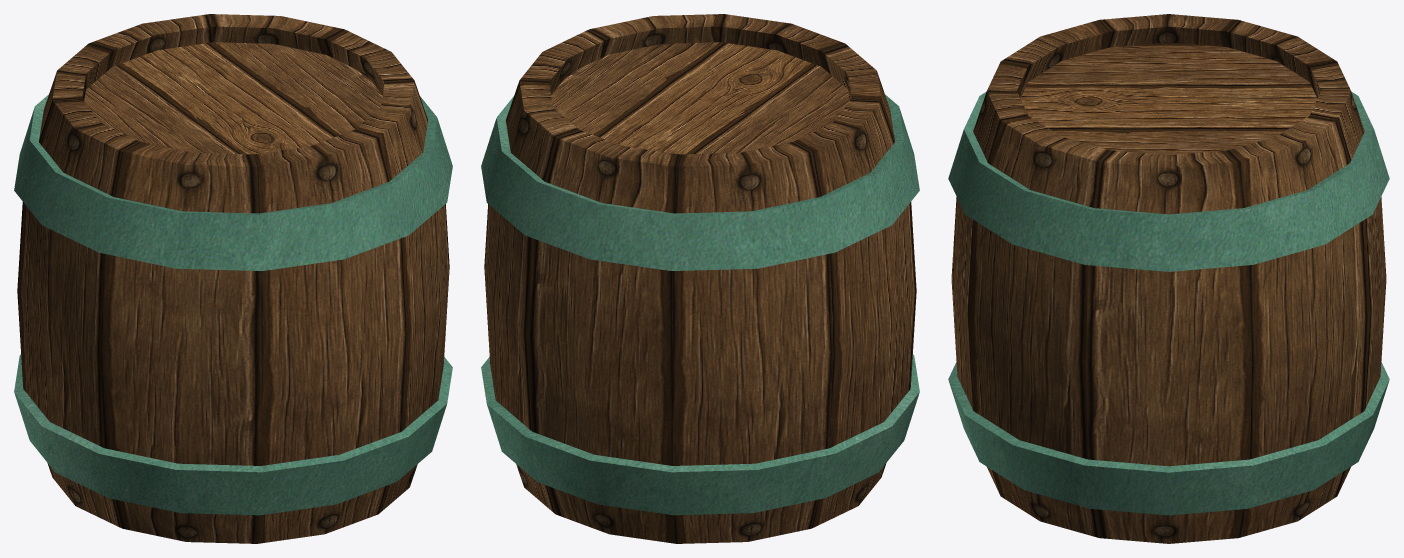
Rendered from Wood_Barrel_Drop.fbx.
3 renders of one model, left to right at view 1: azimuth 30°, elevation 25°; view 2: azimuth 150°, elevation 25°; view 3: azimuth 270°, elevation 25°, orthographic.
Visible parts, largest first — view 1: Wood_Barrel_Drop.006, Wood_Barrel_Drop.005, Wood_Barrel_Drop.002, Wood_Barrel_Drop.001, Wood_Barrel_Drop.007, Wood_Barrel_Drop.003, Wood_Barrel_Drop.000, Wood_Barrel_Drop.010, Wood_Barrel_Drop.009, Wood_Barrel_Drop.011, Wood_Barrel_Drop.008; view 2: Wood_Barrel_Drop.008, Wood_Barrel_Drop.009, Wood_Barrel_Drop.002, Wood_Barrel_Drop.001, Wood_Barrel_Drop.007, Wood_Barrel_Drop.003, Wood_Barrel_Drop.010, Wood_Barrel_Drop.000, Wood_Barrel_Drop.005, Wood_Barrel_Drop.011, Wood_Barrel_Drop.006; view 3: Wood_Barrel_Drop.011, Wood_Barrel_Drop.000, Wood_Barrel_Drop.010, Wood_Barrel_Drop.002, Wood_Barrel_Drop.001, Wood_Barrel_Drop.003, Wood_Barrel_Drop.009, Wood_Barrel_Drop.005, Wood_Barrel_Drop.007, Wood_Barrel_Drop.008, Wood_Barrel_Drop.006.
Part boxes in pixels (x1=…): Wood_Barrel_Drop.006: x1=100, y1=141, x2=261, y2=543; Wood_Barrel_Drop.005: x1=253, y1=130, x2=406, y2=543; Wood_Barrel_Drop.002: x1=14, y1=94, x2=452, y2=270; Wood_Barrel_Drop.001: x1=84, y1=42, x2=382, y2=154; Wood_Barrel_Drop.007: x1=17, y1=99, x2=139, y2=528; Wood_Barrel_Drop.003: x1=14, y1=354, x2=452, y2=515; Wood_Barrel_Drop.000: x1=355, y1=80, x2=449, y2=513; Wood_Barrel_Drop.010: x1=209, y1=14, x2=343, y2=57; Wood_Barrel_Drop.009: x1=89, y1=14, x2=213, y2=69; Wood_Barrel_Drop.011: x1=326, y1=29, x2=413, y2=94; Wood_Barrel_Drop.008: x1=39, y1=43, x2=112, y2=140; Wood_Barrel_Drop.008: x1=672, y1=141, x2=833, y2=543; Wood_Barrel_Drop.009: x1=527, y1=130, x2=680, y2=543; Wood_Barrel_Drop.002: x1=481, y1=94, x2=919, y2=270; Wood_Barrel_Drop.001: x1=551, y1=42, x2=849, y2=154; Wood_Barrel_Drop.007: x1=794, y1=99, x2=916, y2=528; Wood_Barrel_Drop.003: x1=481, y1=354, x2=919, y2=515; Wood_Barrel_Drop.010: x1=484, y1=80, x2=578, y2=513; Wood_Barrel_Drop.000: x1=590, y1=14, x2=724, y2=57; Wood_Barrel_Drop.005: x1=719, y1=14, x2=844, y2=73; Wood_Barrel_Drop.011: x1=520, y1=29, x2=607, y2=94; Wood_Barrel_Drop.006: x1=821, y1=43, x2=894, y2=140; Wood_Barrel_Drop.011: x1=1085, y1=150, x2=1252, y2=543; Wood_Barrel_Drop.000: x1=968, y1=115, x2=1110, y2=537; Wood_Barrel_Drop.010: x1=1227, y1=115, x2=1369, y2=537; Wood_Barrel_Drop.002: x1=948, y1=91, x2=1389, y2=271; Wood_Barrel_Drop.001: x1=1020, y1=42, x2=1317, y2=155; Wood_Barrel_Drop.003: x1=948, y1=362, x2=1389, y2=515; Wood_Barrel_Drop.009: x1=1309, y1=61, x2=1386, y2=494; Wood_Barrel_Drop.005: x1=951, y1=61, x2=1028, y2=494; Wood_Barrel_Drop.007: x1=1100, y1=14, x2=1237, y2=47; Wood_Barrel_Drop.008: x1=1227, y1=20, x2=1336, y2=98; Wood_Barrel_Drop.006: x1=1001, y1=20, x2=1110, y2=98.
Size of the model in its own units: 77.9 by 73.2 by 77.9.
